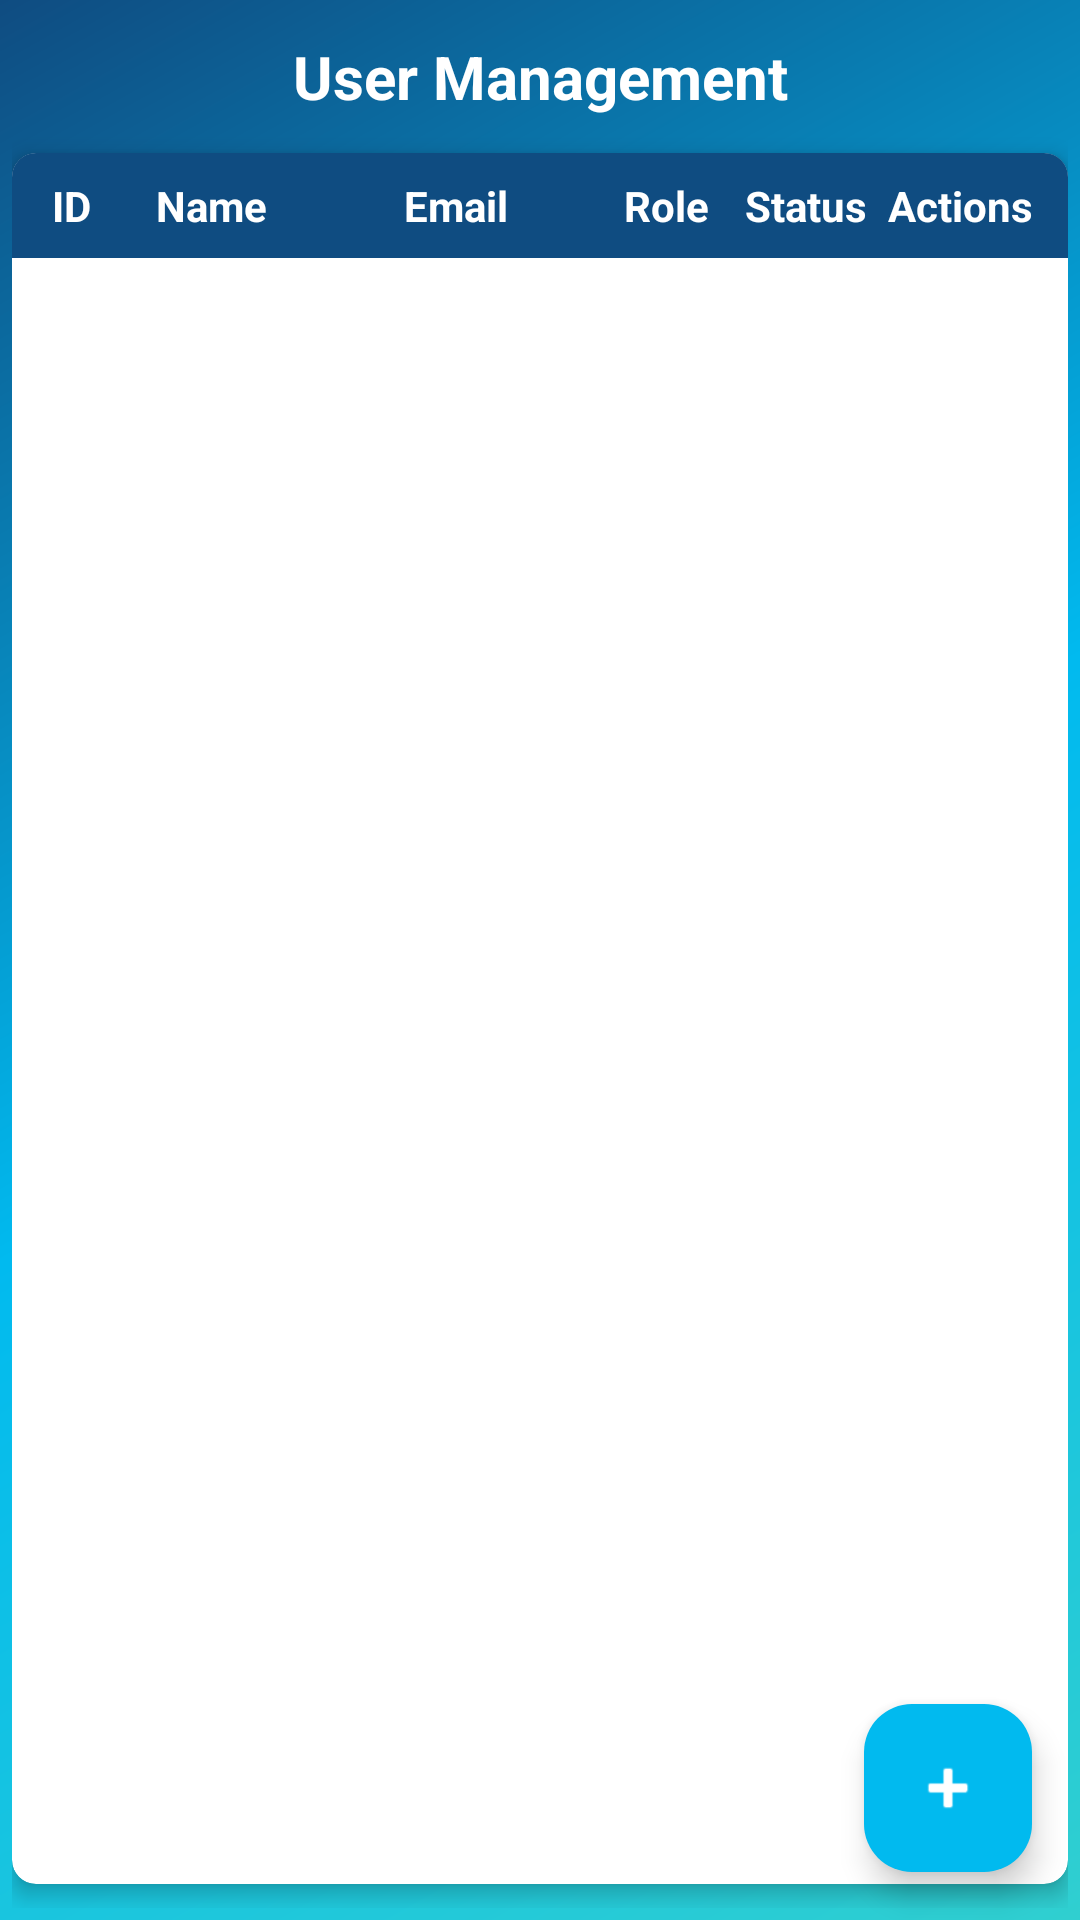

Screen size 1080×1920. Icon name, then its center in pixels as (x=x, y=y):
Add new user: (x=948, y=1788)
